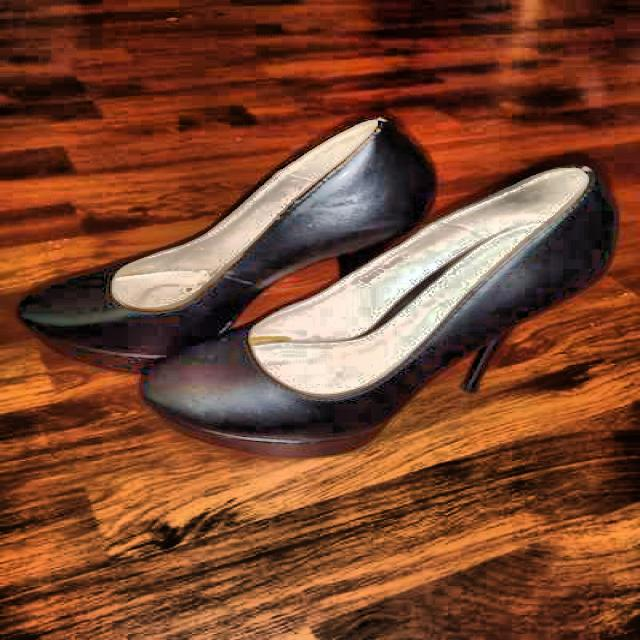shoes: (12, 52, 640, 474)
